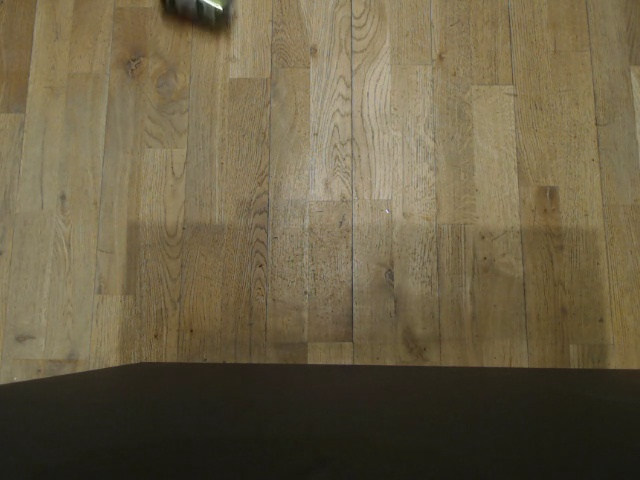beer: (154, 0, 246, 31)
